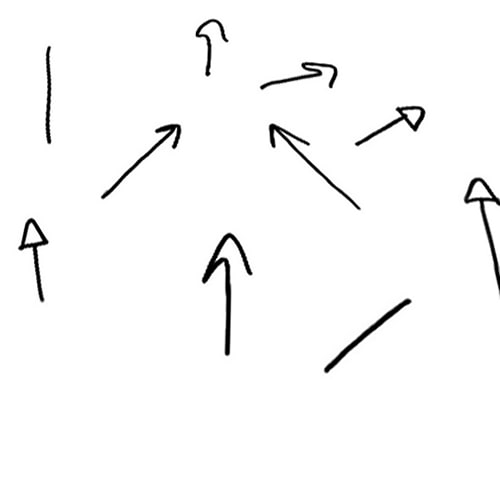arrow: (267, 122, 364, 210), (202, 233, 253, 357), (107, 122, 182, 195), (463, 175, 500, 295), (257, 61, 340, 93), (356, 106, 426, 143), (18, 217, 49, 300), (189, 16, 229, 80)
arrownohead: (326, 295, 412, 372), (42, 45, 55, 145)
